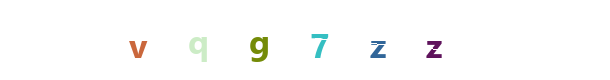7: (265, 0, 345, 80)
G: (220, 0, 300, 80)
Q: (180, 0, 260, 80)
V: (134, 0, 214, 80)
Z: (309, 0, 389, 80), (394, 0, 474, 80)
